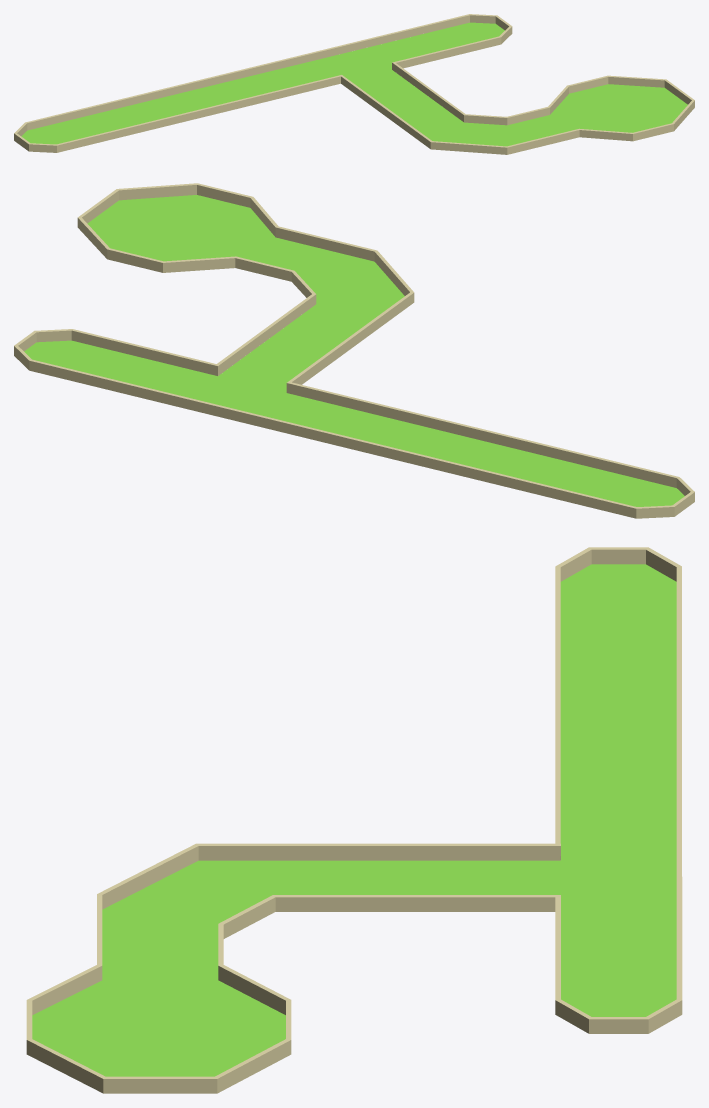
File: study_course.fbx
The picture shows the model from 3 angles, top to bottom: view 1: azimuth 30°, elevation 25°; view 2: azimuth 150°, elevation 25°; view 3: azimuth 270°, elevation 25°; orthographic projection. The views are drawn at different scales.
Parts seen in each view (by area): view 1: center_plane, h4_walls, h3_walls, h1_walls; view 2: center_plane, h3_walls, h4_walls, h1_walls; view 3: center_plane, h4_walls, h3_walls, h1_walls.
Boxes of the visible parts, <box> form: center_plane: <box>21,22,687,146</box>; h4_walls: <box>341,63,694,154</box>; h3_walls: <box>14,52,342,152</box>; h1_walls: <box>312,14,512,70</box>; center_plane: <box>24,195,684,506</box>; h3_walls: <box>245,381,694,518</box>; h4_walls: <box>77,183,414,393</box>; h1_walls: <box>14,329,246,422</box>; center_plane: <box>32,564,676,1076</box>; h4_walls: <box>26,843,560,1093</box>; h3_walls: <box>555,547,681,845</box>; h1_walls: <box>555,846,682,1033</box>.
Size of the model in its own units: 1167 by 15 by 608.
